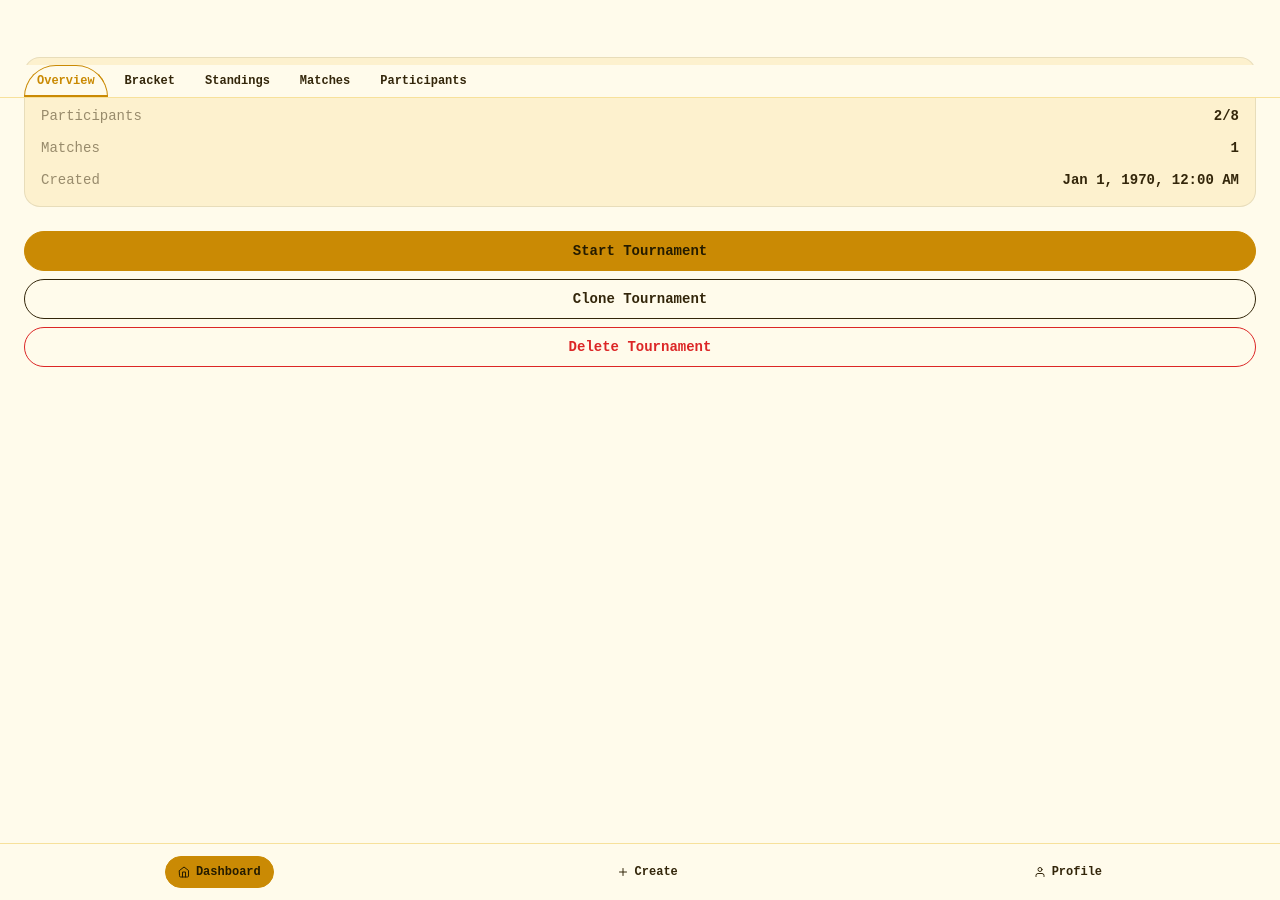
Test: TournamentDetailPage › renders matches with fallbacks and an add link
The image size is (1280, 900).
Click the button "Matches" at (325, 81), box [287,65,363,97]
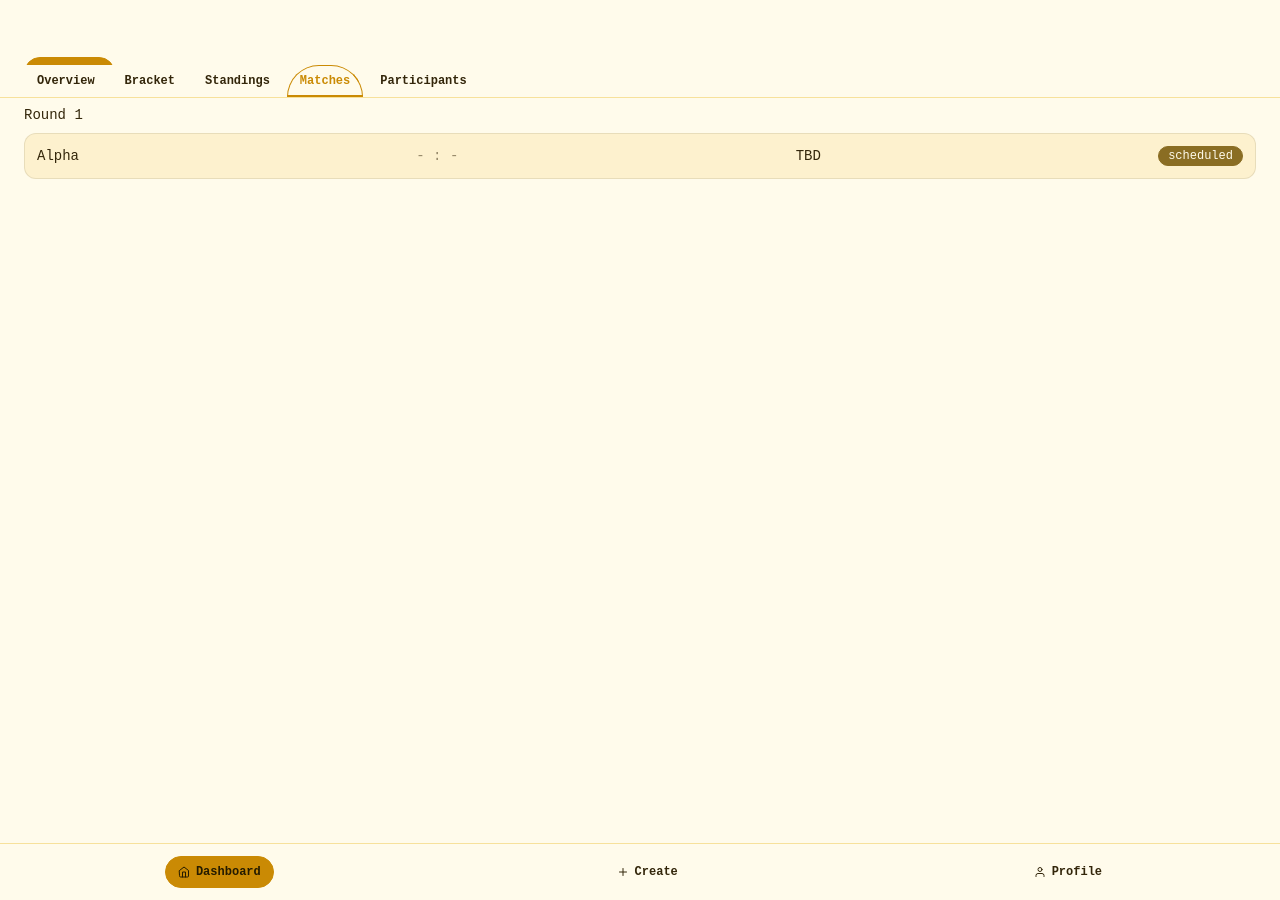
Check: the heading "Round 1" is shown, box [24,107,83,123]
Check: the text "TBD" is shown, box [796,146,821,166]
Check: the text "- : -" is shown, box [416,146,458,166]
